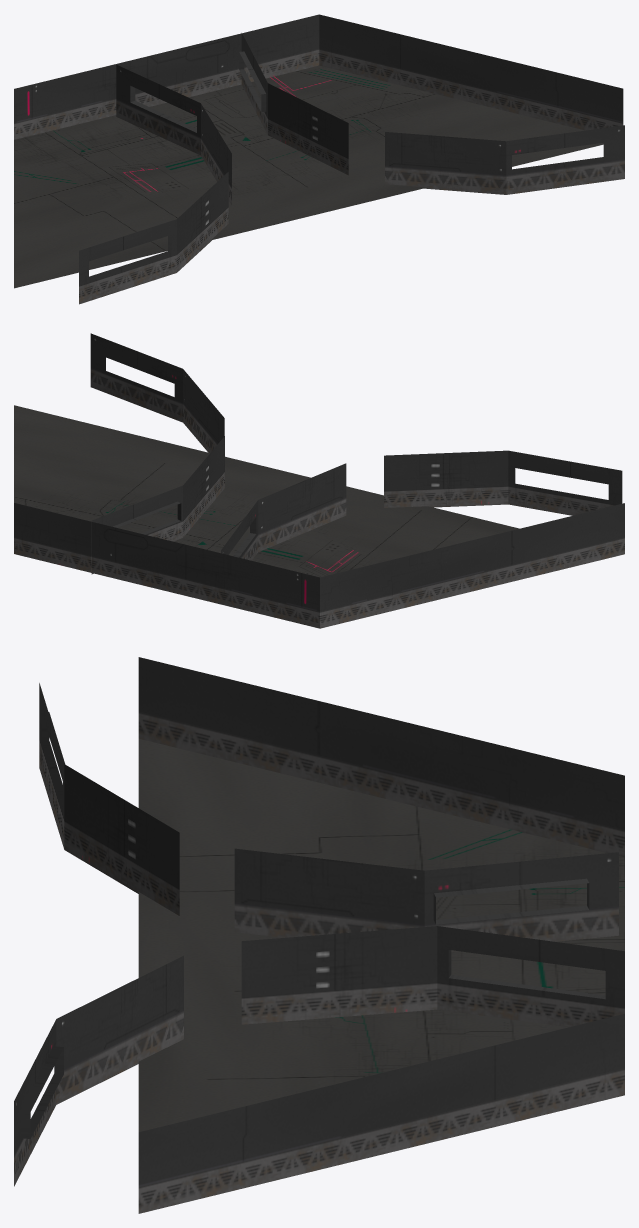
The model's file is labWall2.fbx.
3 views of the same model, one above another, from view 1: azimuth 30°, elevation 25°; view 2: azimuth 150°, elevation 25°; view 3: azimuth 270°, elevation 25° (orthographic). The views are drawn at different scales.
Parts seen in each view (by area): view 1: Object014; view 2: Object014; view 3: Object014.
Part boxes in pixels (x1=…): Object014: x1=14, y1=14, x2=624, y2=304; Object014: x1=14, y1=333, x2=624, y2=628; Object014: x1=14, y1=657, x2=624, y2=1213.
Bounding box in the file's own units: 9030 × 761 × 4906.
Materials: 1 (1 with a texture image).
